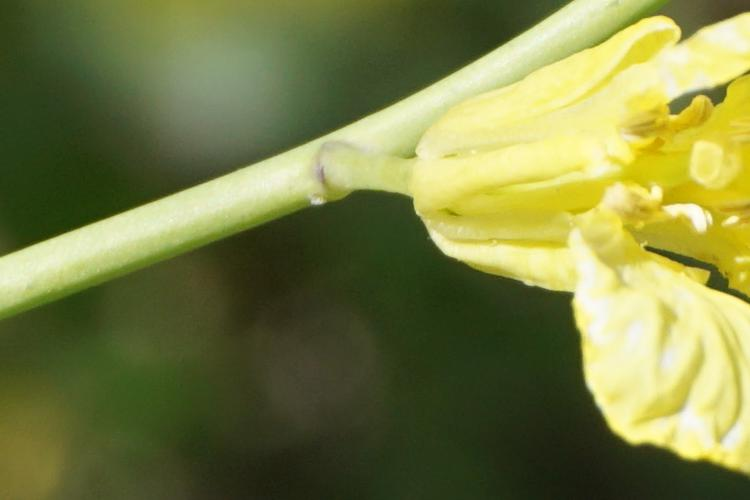yellow: (335, 52, 750, 472)
